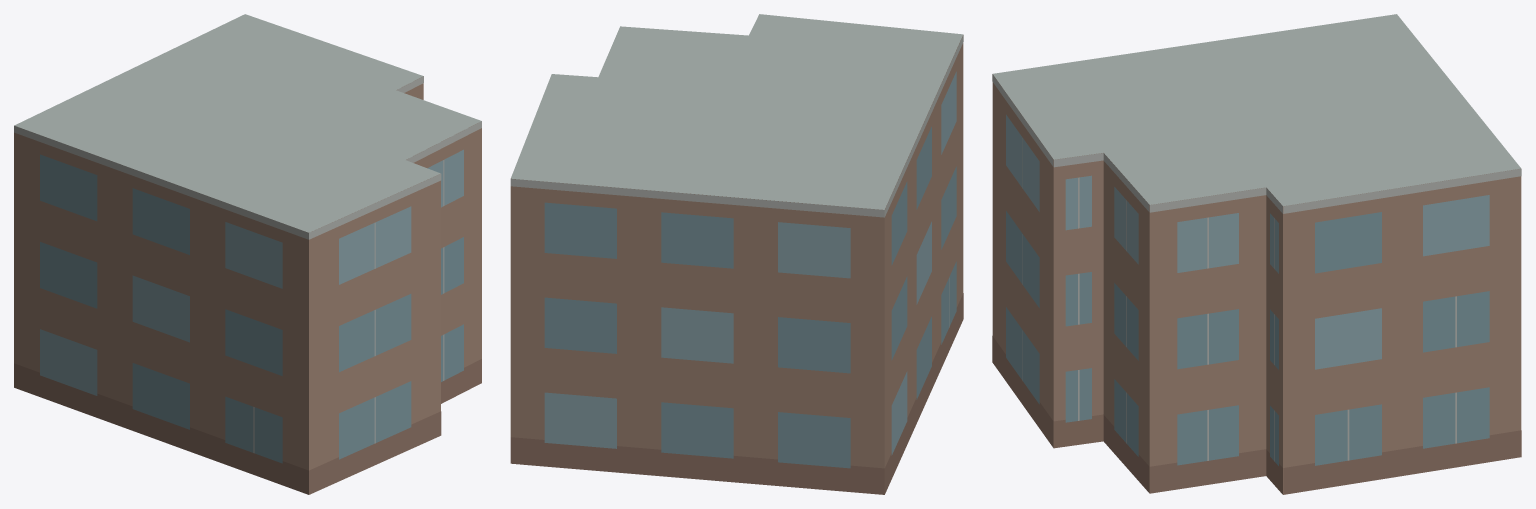
File: survey-upis-32673079.glb
The picture shows the model from 3 angles, left to right: view 1: azimuth 30°, elevation 25°; view 2: azimuth 150°, elevation 25°; view 3: azimuth 270°, elevation 25°; orthographic projection. The views are drawn at different scales.
Visible parts, largest first — view 1: survey-upis-32673079.tmp; view 2: survey-upis-32673079.tmp; view 3: survey-upis-32673079.tmp.
Boxes of the visible parts, left/top/right/bottom form: survey-upis-32673079.tmp: left=14, top=14, right=481, bottom=494; survey-upis-32673079.tmp: left=510, top=14, right=963, bottom=494; survey-upis-32673079.tmp: left=992, top=14, right=1521, bottom=494.
Size of the model in its own units: 13.09 by 9.15 by 15.21.
